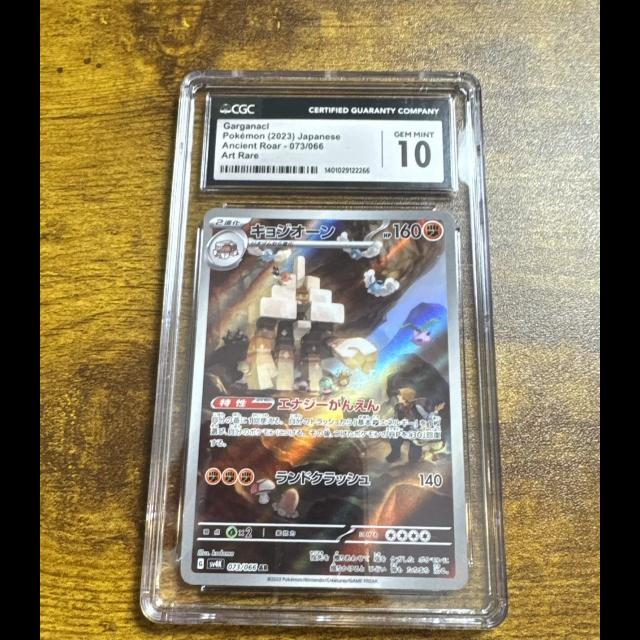card: (179, 206, 471, 592)
cgc_label: (205, 96, 452, 188)
cgc_slab: (137, 68, 511, 632)
